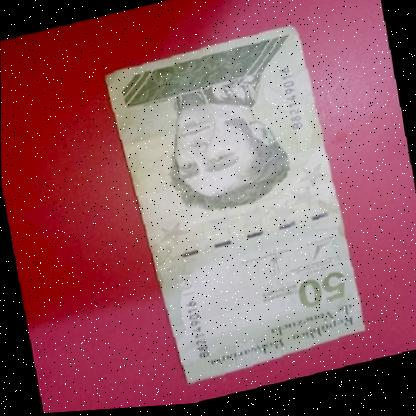fifty-front-vef: (101, 20, 366, 395)
